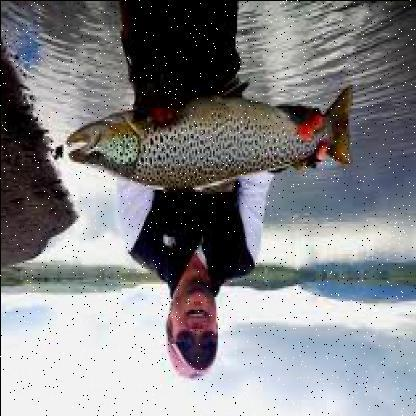fish: (64, 88, 356, 197)
